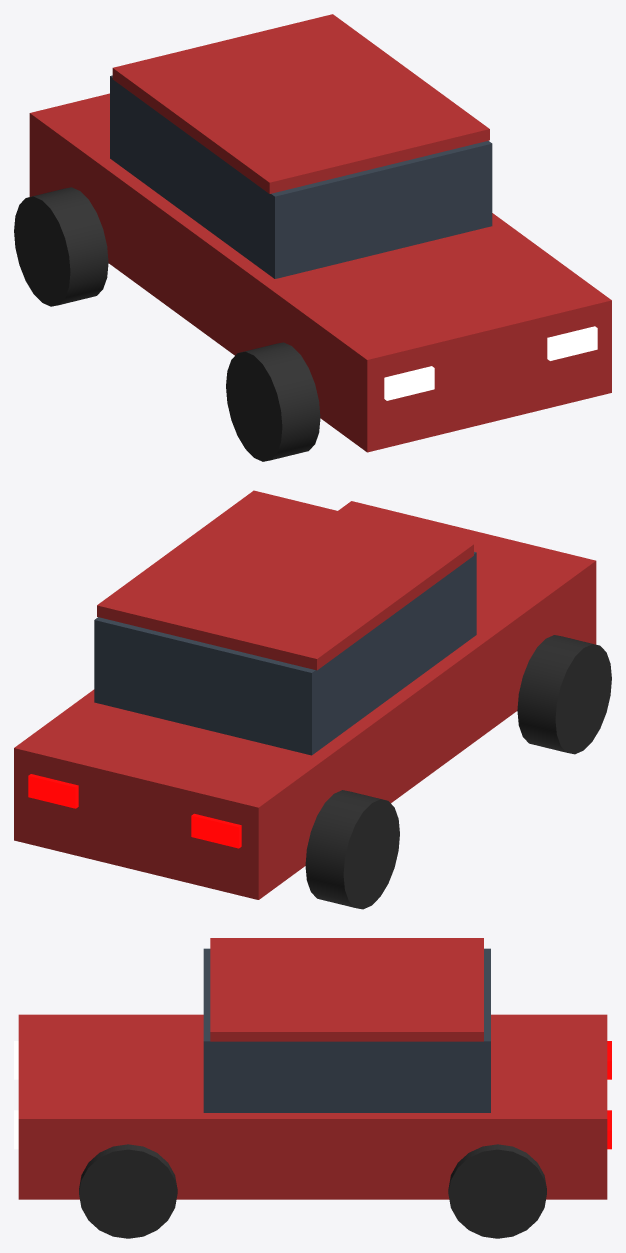
Rendered from car.glb.
3 views of the same model, one above another, from view 1: azimuth 30°, elevation 25°; view 2: azimuth 150°, elevation 25°; view 3: azimuth 270°, elevation 25° (orthographic). The views are drawn at different scales.
Visible parts, largest first — view 1: Sedan; view 2: Sedan; view 3: Sedan.
Boxes of the visible parts, box(x1,y1,x2,y2) form: Sedan: box(14, 14, 611, 461); Sedan: box(14, 490, 611, 909); Sedan: box(14, 938, 611, 1238).
Size of the model in its own units: 2.26 by 1.59 by 4.37.
